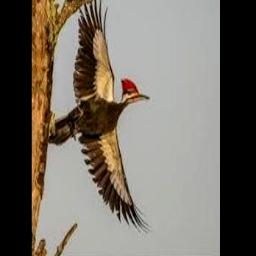Woodpecker: (46, 0, 152, 236)
